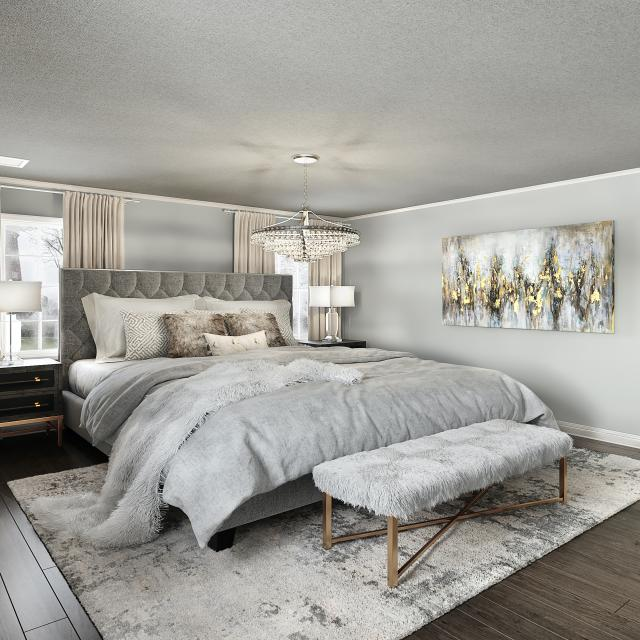floor: (1, 445, 640, 640), (0, 425, 110, 640), (463, 460, 560, 514), (397, 489, 483, 526), (398, 522, 449, 570), (332, 497, 387, 539), (568, 433, 640, 461)
